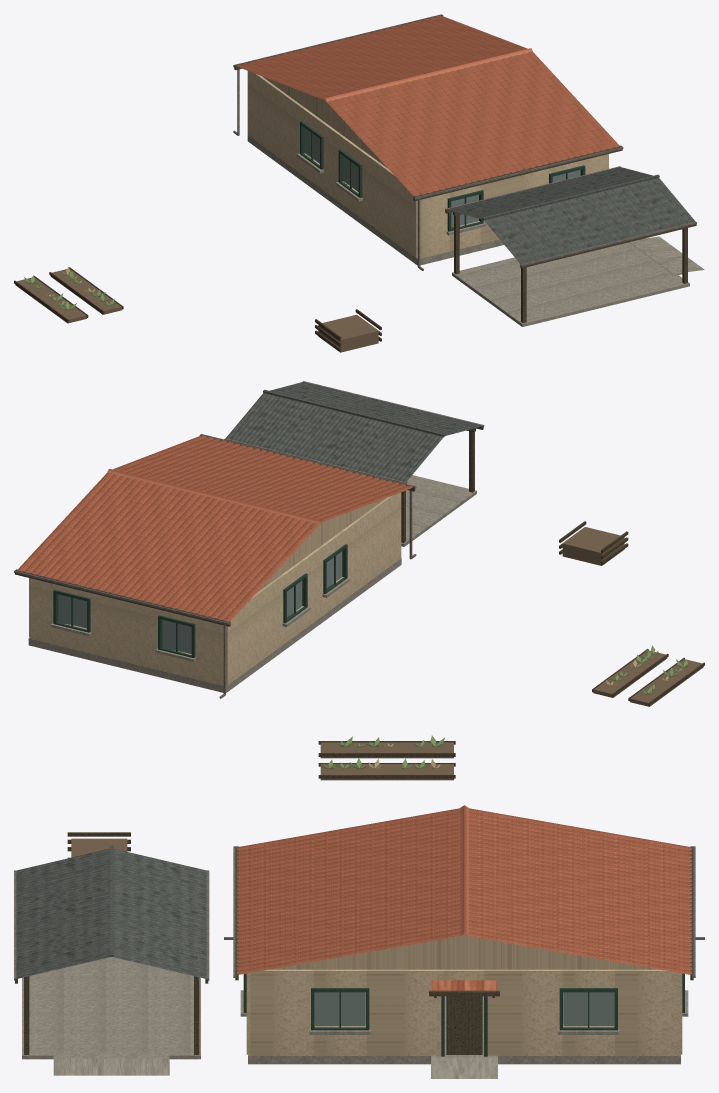
3 renders of one model, top to bottom at view 1: azimuth 30°, elevation 25°; view 2: azimuth 150°, elevation 25°; view 3: azimuth 270°, elevation 25°, orthographic. The views are drawn at different scales.
Parts seen in each view (by area): view 1: H16_TELHAS, H16_GARAGEM_COBERTURA, H16_GARAGEM_BASE, H16_FUNDOS, H16_LATERAIS, H16_HORTA_TERRA, H16_FUNDACAO, H16_CAIXILHOS, H16_OITOES, H16_COMPOSTO_COMPOSTO, H16_VIDROS_RECUADOS, H16_BEIRAIS (+8 smaller); view 2: H16_TELHAS, H16_GARAGEM_COBERTURA, H16_FUNDOS, H16_LATERAIS, H16_FUNDACAO, H16_GARAGEM_BASE, H16_VIDROS_RECUADOS, H16_CAIXILHOS, H16_HORTA_TERRA, H16_OITOES, H16_COMPOSTO_COMPOSTO, H16_BEIRAIS (+8 smaller); view 3: H16_TELHAS, H16_FACHADA, H16_GARAGEM_COBERTURA, H16_GARAGEM_BASE, H16_OITOES, H16_FUNDACAO, H16_VIDROS_RECUADOS, H16_HORTA_TERRA, H16_PORTA_FOLHA, H16_GARAGEM_RAMPA, H16_CAIXILHOS, H16_RAMPA (+13 smaller).
Boxes of the visible parts, x1,y1,x2,y2 form: H16_TELHAS: [236, 15, 619, 196]; H16_GARAGEM_COBERTURA: [446, 167, 695, 264]; H16_GARAGEM_BASE: [452, 242, 689, 326]; H16_FUNDOS: [247, 71, 417, 258]; H16_LATERAIS: [420, 154, 607, 258]; H16_HORTA_TERRA: [15, 268, 122, 323]; H16_FUNDACAO: [247, 135, 503, 265]; H16_CAIXILHOS: [300, 121, 585, 231]; H16_OITOES: [262, 76, 386, 167]; H16_COMPOSTO_COMPOSTO: [318, 314, 378, 352]; H16_VIDROS_RECUADOS: [305, 128, 580, 227]; H16_BEIRAIS: [234, 14, 622, 201]; H16_TELHAS: [18, 435, 412, 621]; H16_GARAGEM_COBERTURA: [226, 382, 482, 482]; H16_FUNDOS: [226, 492, 401, 685]; H16_LATERAIS: [30, 578, 223, 685]; H16_FUNDACAO: [28, 558, 401, 692]; H16_GARAGEM_BASE: [401, 475, 476, 546]; H16_VIDROS_RECUADOS: [58, 551, 342, 653]; H16_CAIXILHOS: [53, 544, 347, 657]; H16_HORTA_TERRA: [593, 650, 703, 706]; H16_OITOES: [257, 498, 385, 592]; H16_COMPOSTO_COMPOSTO: [562, 527, 624, 565]; H16_BEIRAIS: [15, 434, 415, 626]; H16_TELHAS: [237, 808, 691, 974]; H16_FACHADA: [250, 969, 678, 1055]; H16_GARAGEM_COBERTURA: [16, 848, 206, 978]; H16_GARAGEM_BASE: [22, 957, 200, 1059]; H16_OITOES: [270, 935, 658, 969]; H16_FUNDACAO: [248, 992, 680, 1064]; H16_VIDROS_RECUADOS: [315, 992, 613, 1026]; H16_HORTA_TERRA: [320, 742, 453, 780]; H16_PORTA_FOLHA: [446, 996, 482, 1054]; H16_GARAGEM_RAMPA: [53, 1058, 169, 1075]; H16_CAIXILHOS: [243, 973, 684, 1030]; H16_RAMPA: [431, 1057, 497, 1078].
Size of the model in its own units: 22.49 by 4.28 by 19.68.
13 materials, 9 textured.
